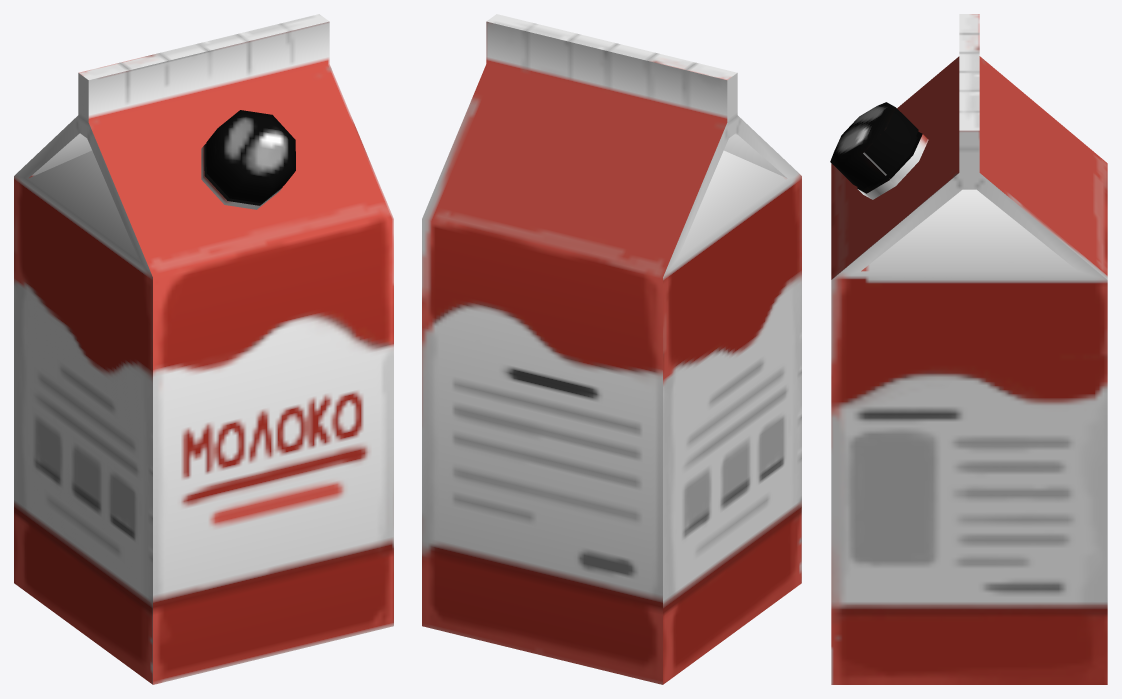
File: milk_check.fbx
The picture shows the model from 3 angles, left to right: view 1: azimuth 30°, elevation 25°; view 2: azimuth 150°, elevation 25°; view 3: azimuth 270°, elevation 25°; orthographic projection.
Visible parts, largest first — view 1: milk_check; view 2: milk_check; view 3: milk_check.
Part boxes in pixels (x1=…): milk_check: x1=14, y1=14, x2=393, y2=684; milk_check: x1=422, y1=14, x2=801, y2=684; milk_check: x1=830, y1=14, x2=1107, y2=684.
Bounding box in the file's own units: 3.21 × 3.23 × 7.11.
